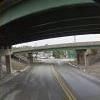Bridge: (8, 21, 99, 64)
